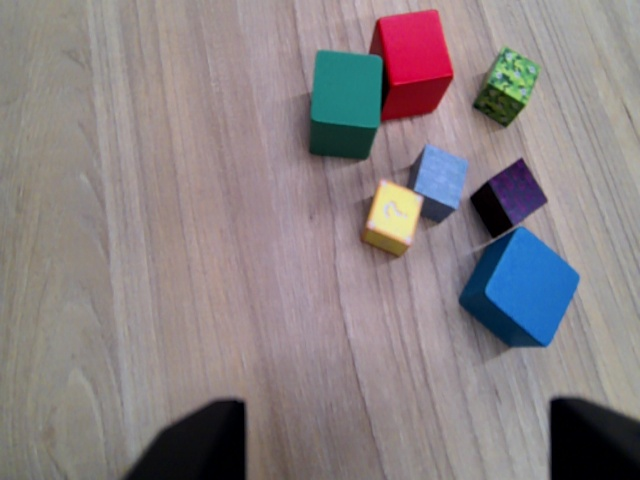brick: (482, 154, 549, 229)
grass: (486, 46, 540, 124)
lucky: (361, 177, 422, 253)
stone: (407, 142, 461, 209)
